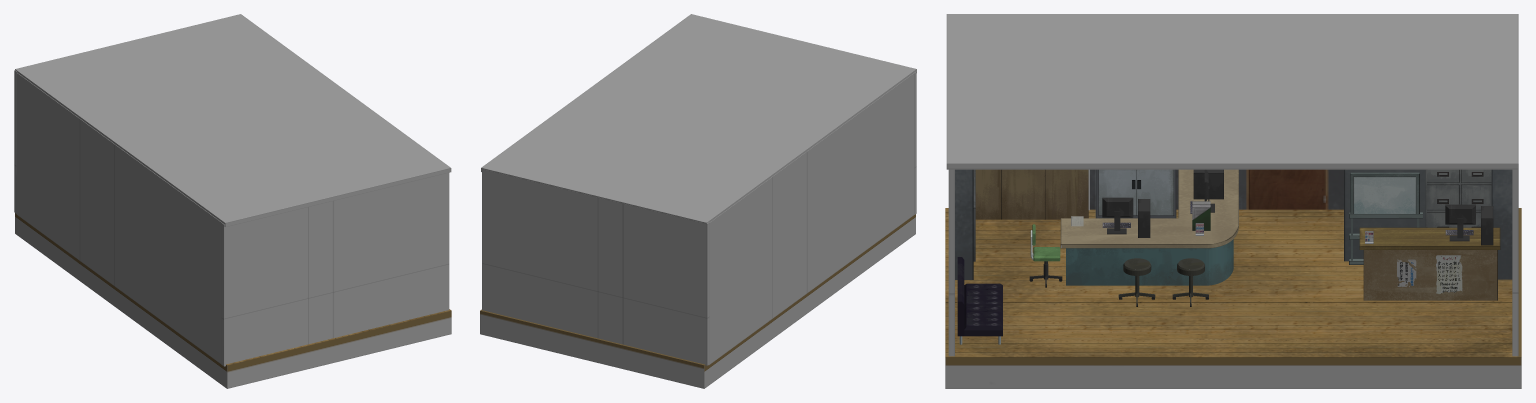
File: Taxi company01.fbx
The picture shows the model from 3 angles, left to right: view 1: azimuth 30°, elevation 25°; view 2: azimuth 150°, elevation 25°; view 3: azimuth 270°, elevation 25°; orthographic projection. The views are drawn at different scales.
Visible parts, largest first — view 1: Cube.030, Cube.093, Cube.108, Cube.096, Cube.110; view 2: Cube.030, Cube.110, Cube.108, Cube.096, Cube.093; view 3: Cube.030, Cube.096, Cube.040, Cube.006, Cube.034, Cube.002, Cube.108, Cube.005, Cube.026, Cube.050, Cylinder.003, Cube.041 (+13 smaller).
Boxes of the visible parts, <box> form: Cube.030: <box>15,14,451,227</box>; Cube.093: <box>221,173,449,366</box>; Cube.108: <box>16,73,221,364</box>; Cube.096: <box>15,213,451,388</box>; Cube.110: <box>14,70,17,213</box>; Cube.030: <box>481,14,916,223</box>; Cube.110: <box>482,169,709,365</box>; Cube.108: <box>708,73,914,365</box>; Cube.096: <box>480,214,915,388</box>; Cube.093: <box>914,71,916,214</box>; Cube.030: <box>946,14,1518,169</box>; Cube.096: <box>945,208,1521,388</box>; Cube.040: <box>1363,250,1497,300</box>; Cube.006: <box>1060,169,1238,248</box>; Cube.034: <box>975,169,1088,219</box>; Cube.002: <box>1066,239,1233,285</box>; Cube.108: <box>1089,169,1343,209</box>; Cube.005: <box>1095,169,1176,218</box>; Cube.026: <box>1425,169,1491,227</box>; Cube.050: <box>1350,172,1419,213</box>; Cylinder.003: <box>957,257,1002,344</box>; Cube.041: <box>1359,227,1500,249</box>.
Bounding box in the file's own units: 271 × 190 × 440.
Materials: 52 (51 with a texture image).
